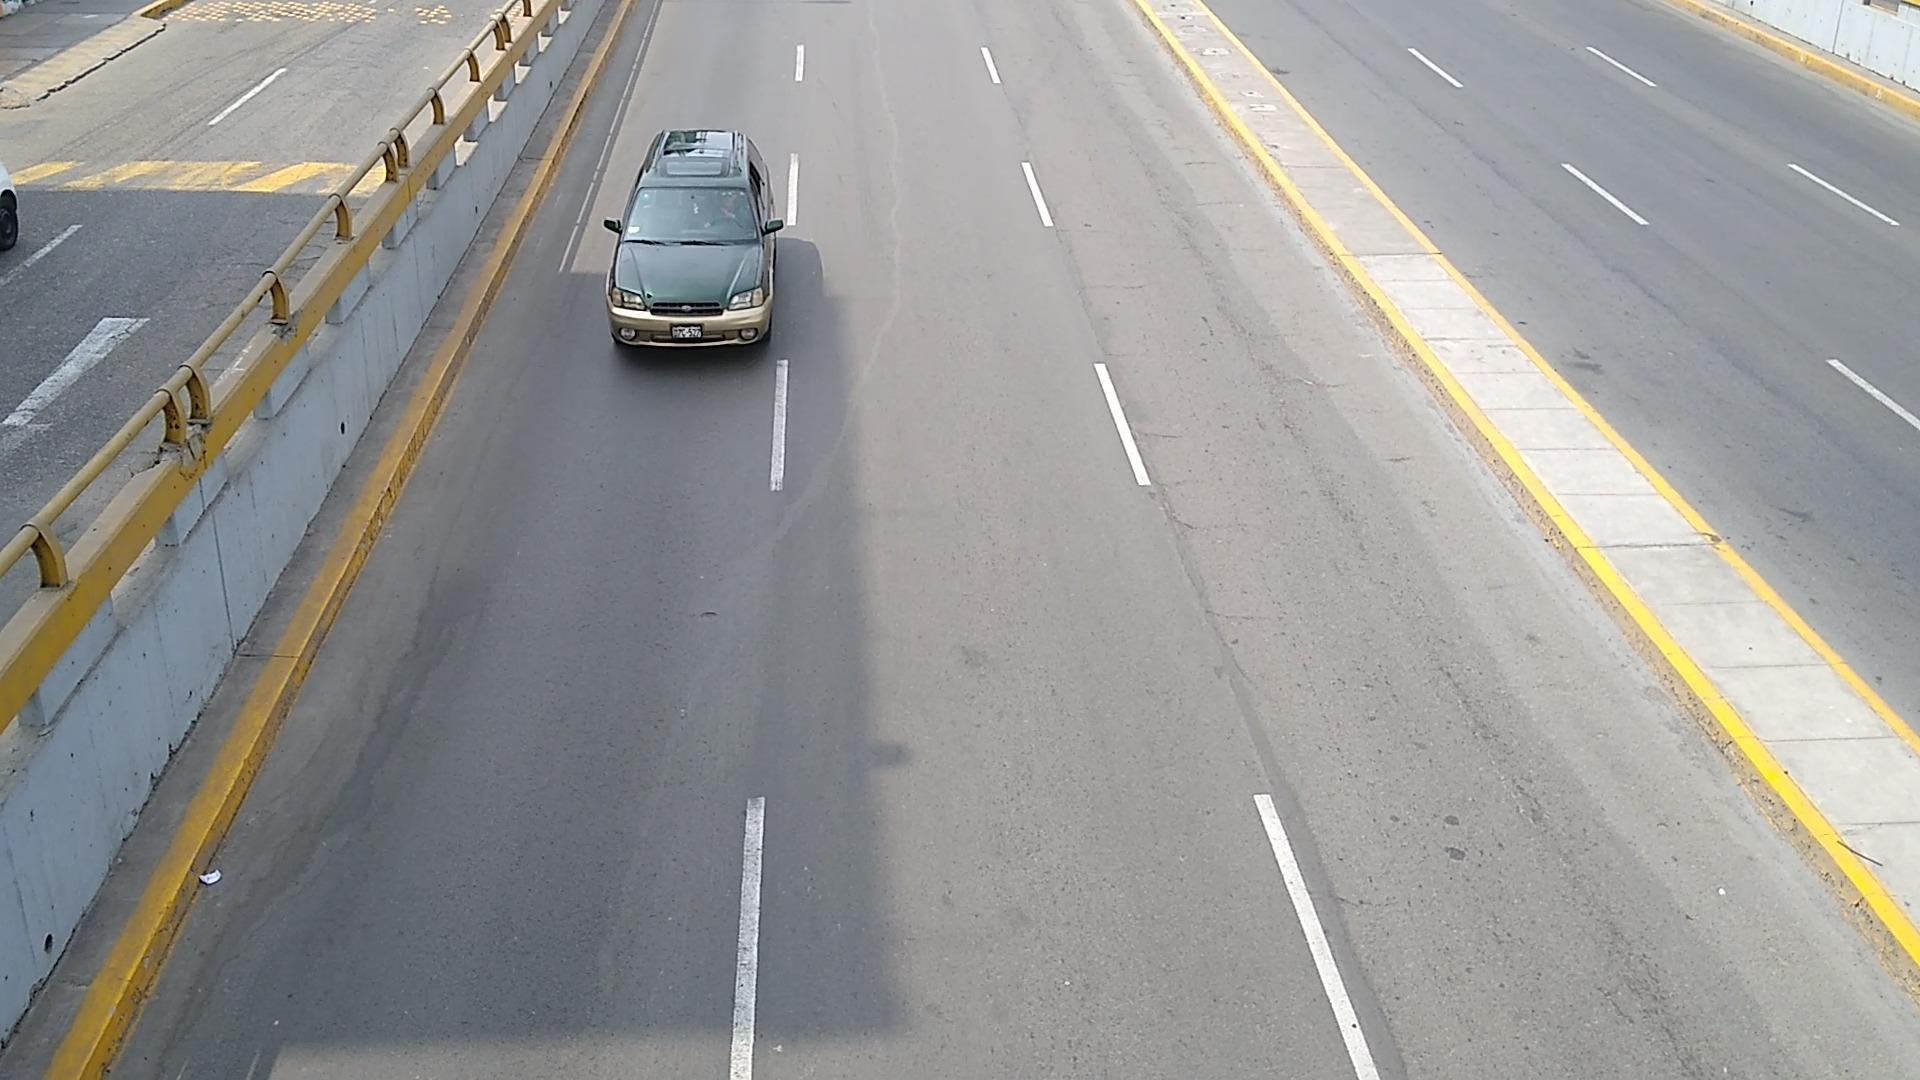car: (604, 128, 783, 348)
